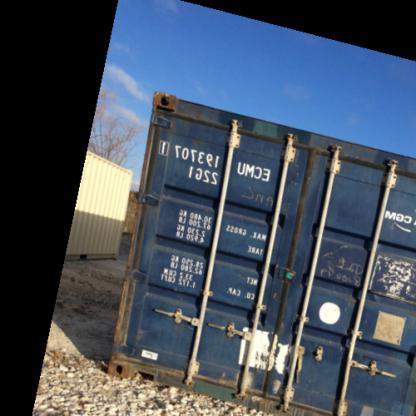Damage: (229, 316, 306, 402), (366, 247, 414, 314), (316, 235, 364, 286), (112, 268, 144, 343), (224, 110, 274, 146), (244, 178, 277, 213), (154, 92, 186, 119)
